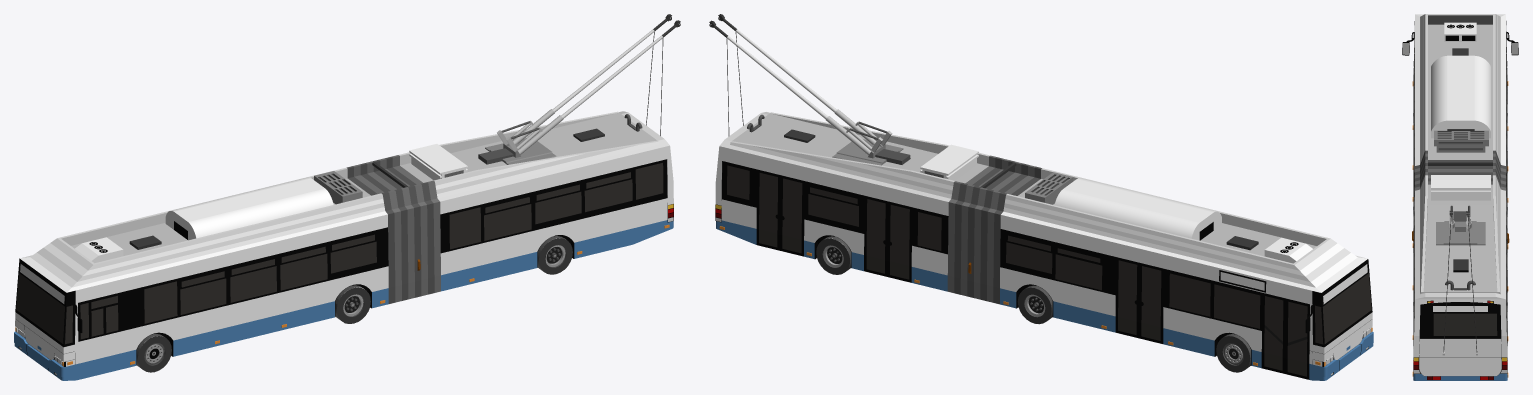
3 renders of one model, left to right at view 1: azimuth 30°, elevation 25°; view 2: azimuth 150°, elevation 25°; view 3: azimuth 270°, elevation 25°, orthographic. The views are drawn at different scales.
Visible parts, largest first — view 1: Layer0_001, Layer1_002; view 2: Layer0_001, Layer1_002; view 3: Layer0_001, Layer1_002.
Boxes of the visible parts, x1=… form: Layer0_001: x1=14, y1=111, x2=673, y2=377; Layer1_002: x1=14, y1=14, x2=680, y2=380; Layer0_001: x1=715, y1=112, x2=1373, y2=379; Layer1_002: x1=709, y1=14, x2=1373, y2=380; Layer0_001: x1=1412, y1=14, x2=1508, y2=380; Layer1_002: x1=1402, y1=14, x2=1518, y2=377.
Bounding box in the file's own units: 12873 × 3934 × 2098.
